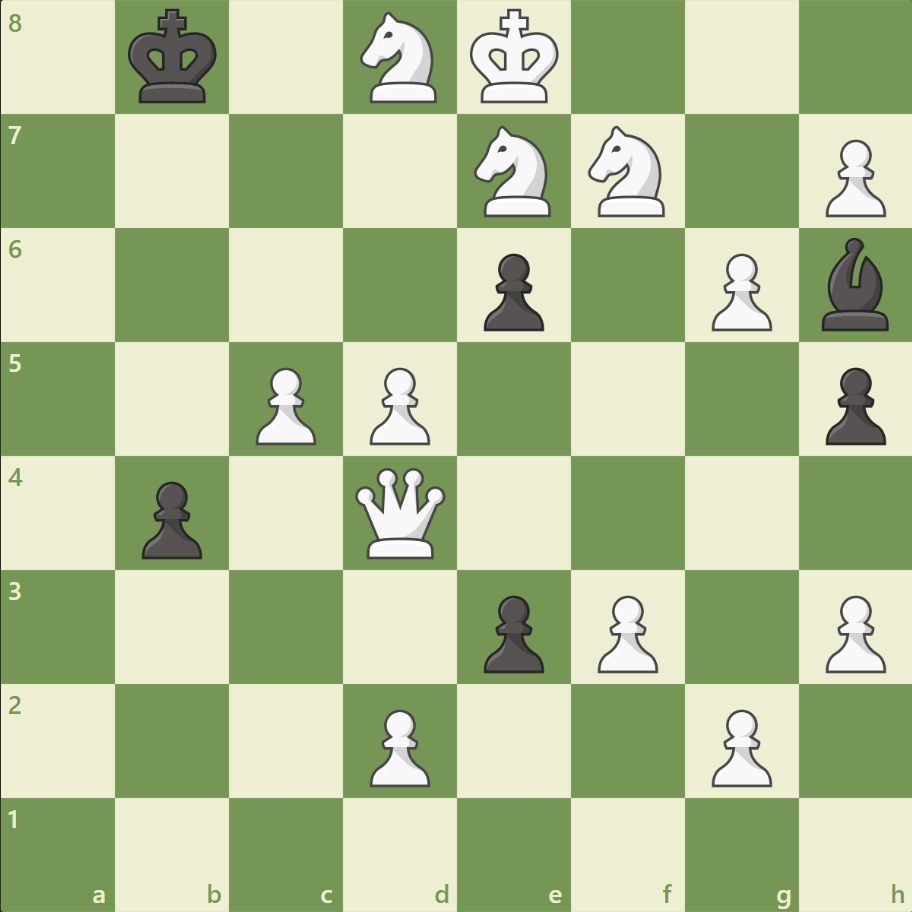K: (465, 4, 565, 112)
N: (351, 7, 449, 110), (465, 121, 562, 223), (579, 121, 676, 223)
P: (701, 246, 776, 337), (247, 359, 322, 450), (701, 700, 776, 791), (815, 132, 889, 223), (361, 359, 435, 450), (588, 586, 662, 677), (815, 586, 889, 677), (361, 700, 435, 791)
Q: (351, 463, 450, 562)
b: (812, 233, 896, 336)
k: (124, 4, 224, 112)
p: (474, 246, 549, 337), (133, 473, 208, 564), (474, 586, 549, 677), (815, 359, 889, 450)
